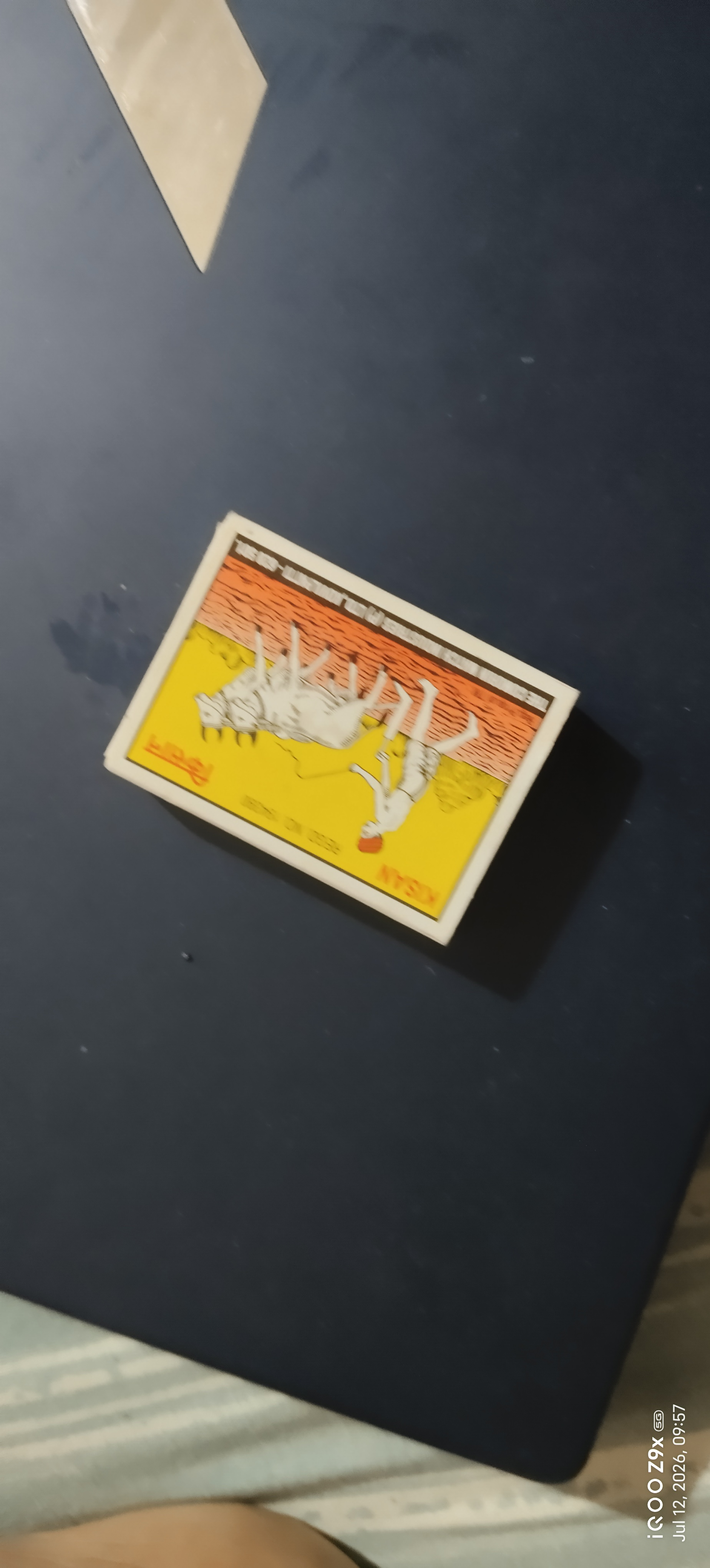matchbox: (78, 472, 606, 1046)
